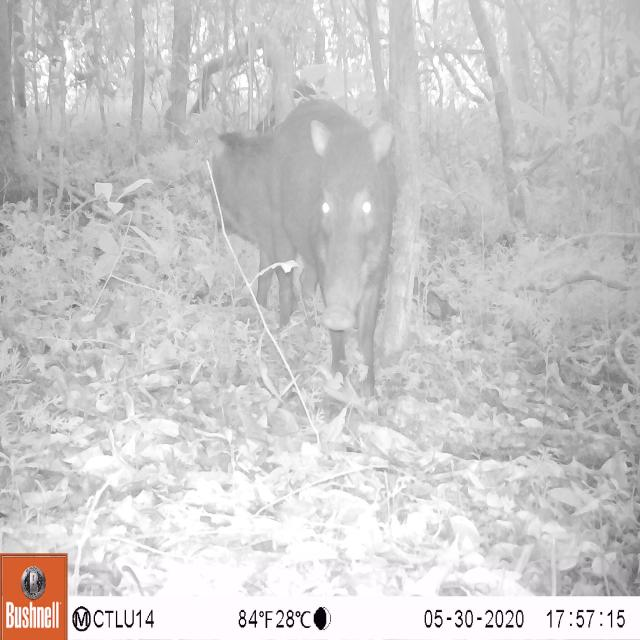White-lipped Peccary: (275, 91, 408, 408), (193, 114, 300, 319)
